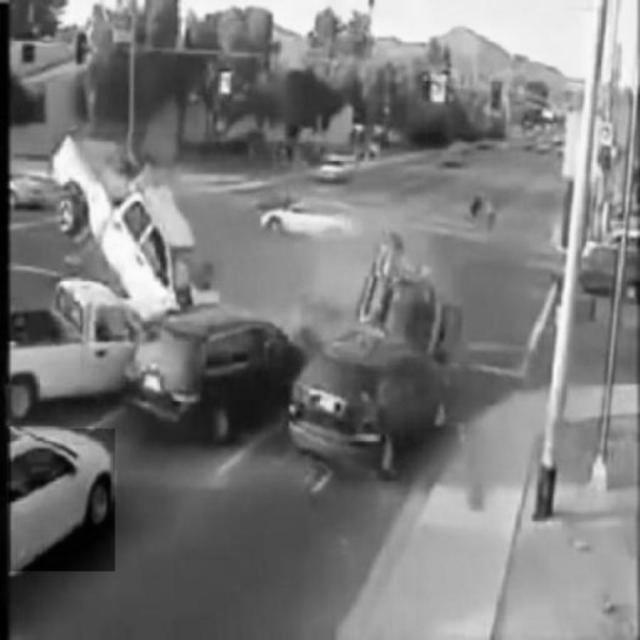accident: (12, 133, 456, 470)
vehicle: (9, 429, 115, 571)
